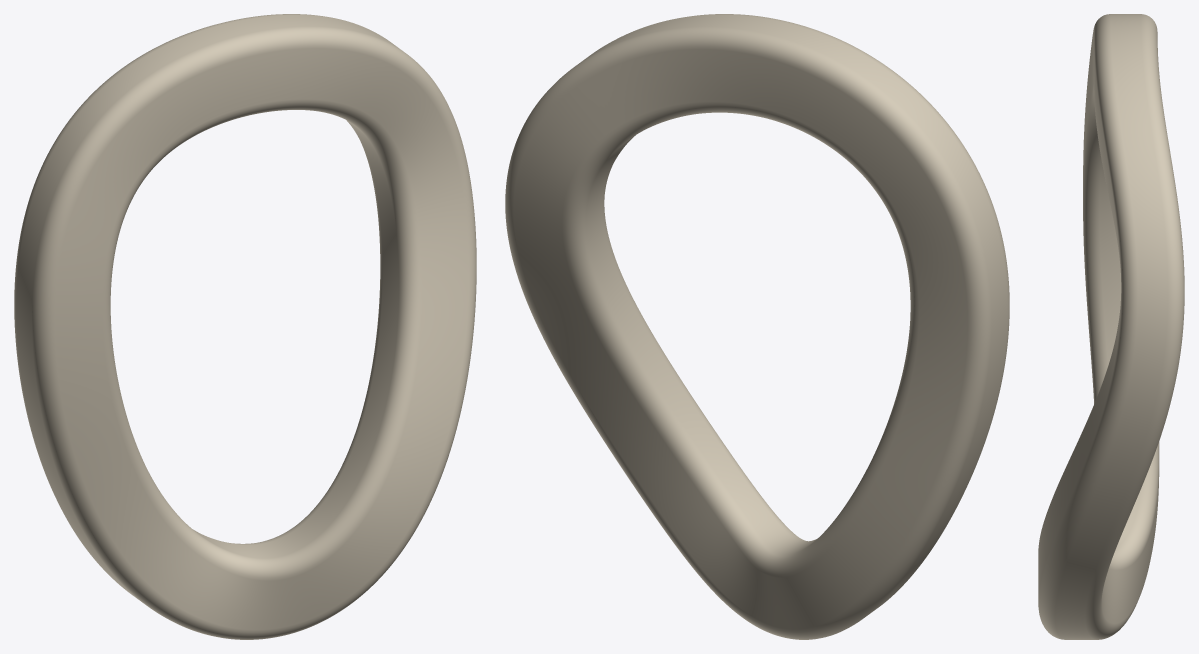
3 views of the same model, side by side, from view 1: azimuth 30°, elevation 25°; view 2: azimuth 150°, elevation 25°; view 3: azimuth 270°, elevation 25° (orthographic). The views are drawn at different scales.
Parts seen in each view (by area): view 1: ORISON | continuous closed sweep; view 2: ORISON | continuous closed sweep; view 3: ORISON | continuous closed sweep.
Part boxes in pixels (box(x1,y1,x2,y2)): ORISON | continuous closed sweep: box(14, 14, 476, 639); ORISON | continuous closed sweep: box(505, 14, 1009, 639); ORISON | continuous closed sweep: box(1038, 14, 1184, 639).
Size of the model in its own units: 0.3084 by 0.3845 by 0.0877.
